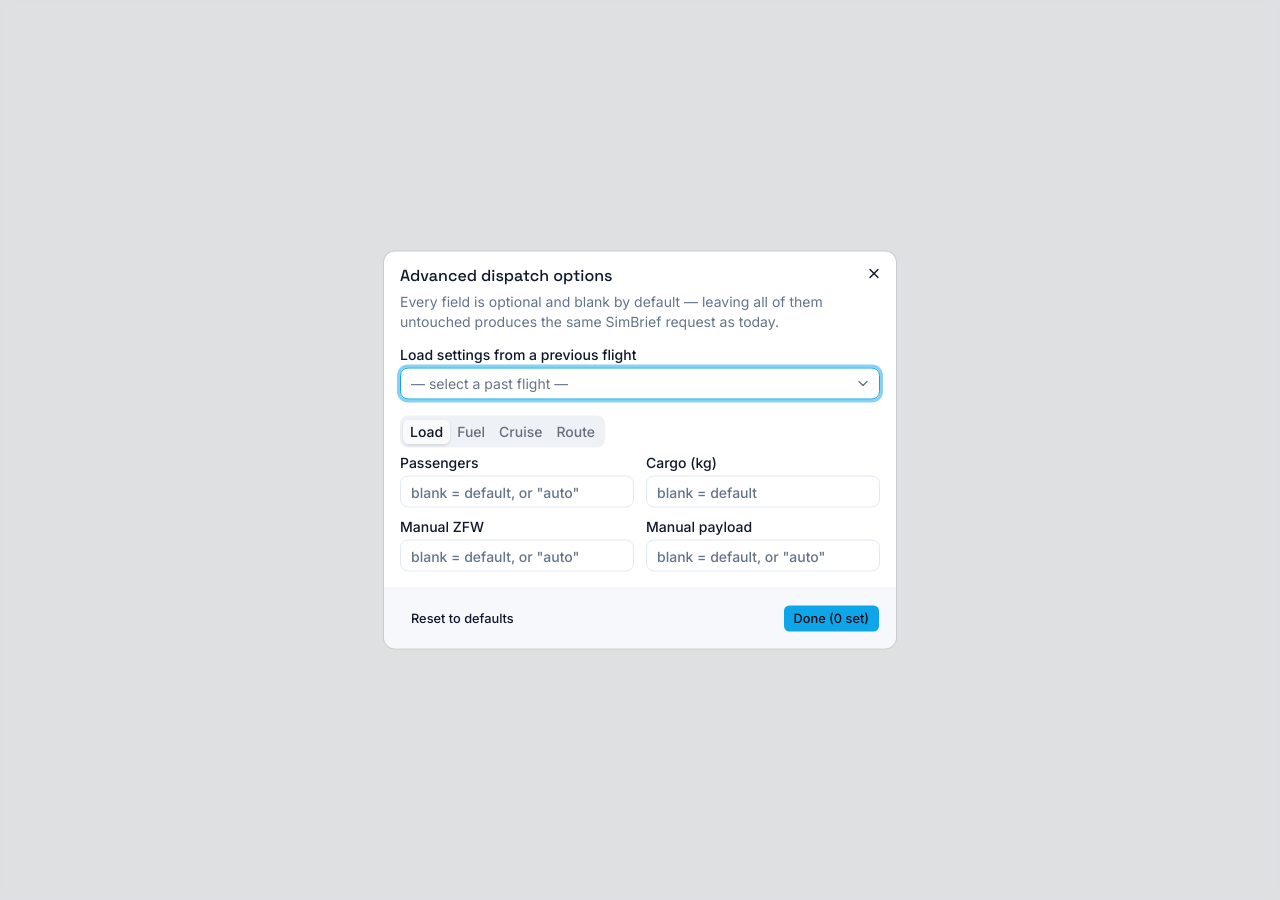
DispatchAdvancedDialog › loads a flight's stored options and shows a confirmation naming it
Click the dropdown at (490, 383), box [400, 368, 880, 400]
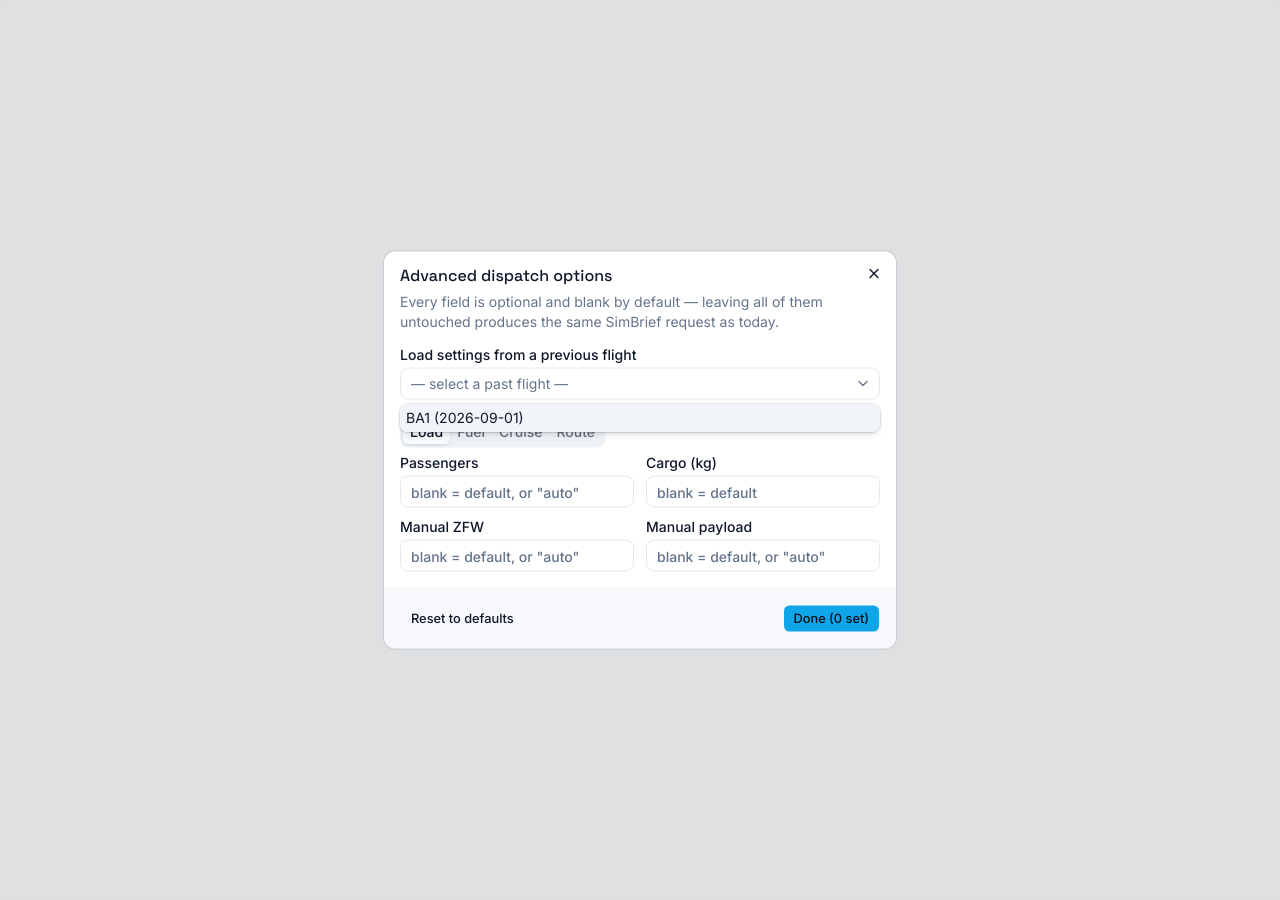
Click the option "BA1 (2026-09-01)" at (477, 418), box [400, 404, 880, 432]
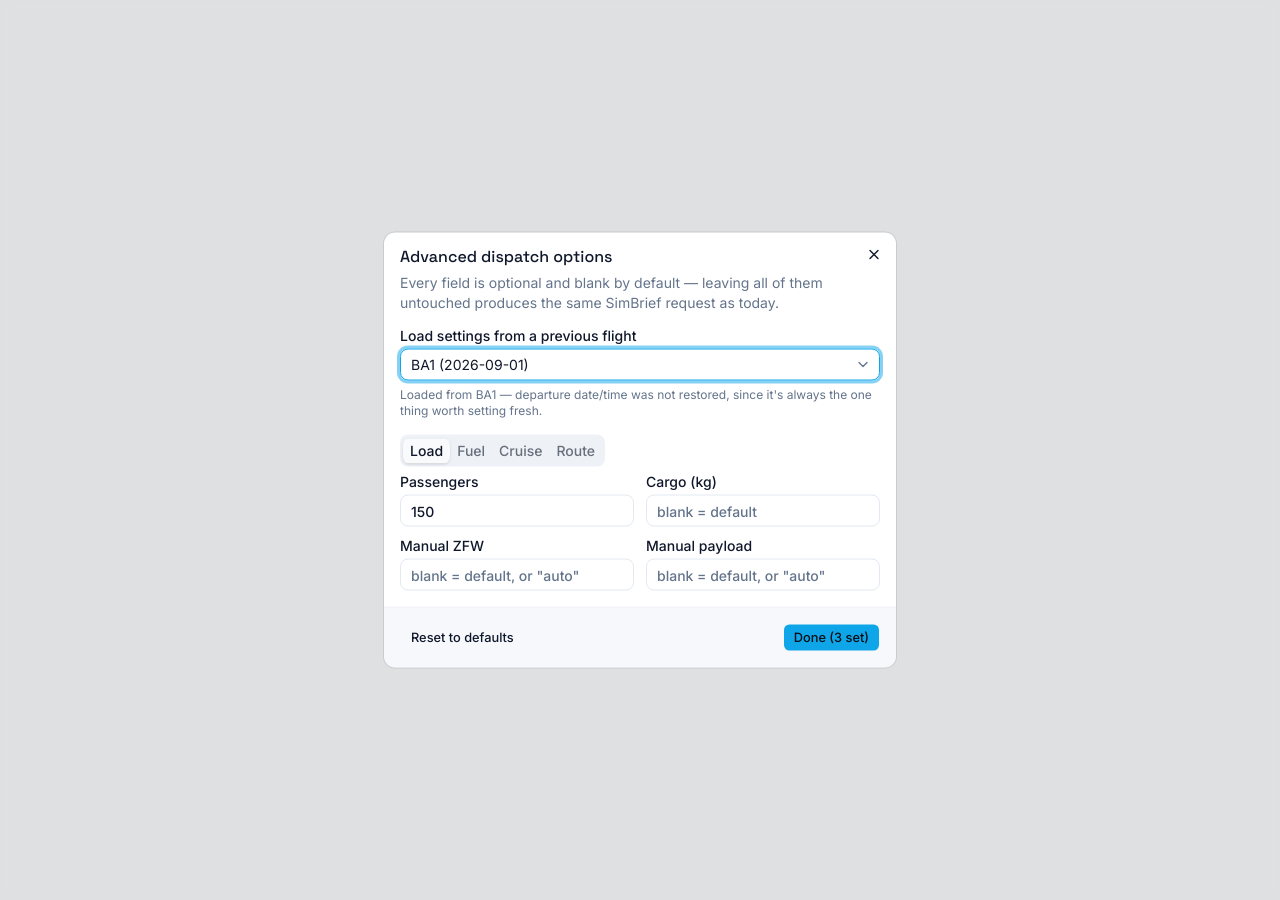
Expected: the text "Loaded from BA1" is shown, [400, 386, 872, 418]
Expected: the field labelled "Passengers" holds "150", [400, 494, 634, 526]
Click the tab "Fuel" at (471, 450), box [450, 438, 492, 463]
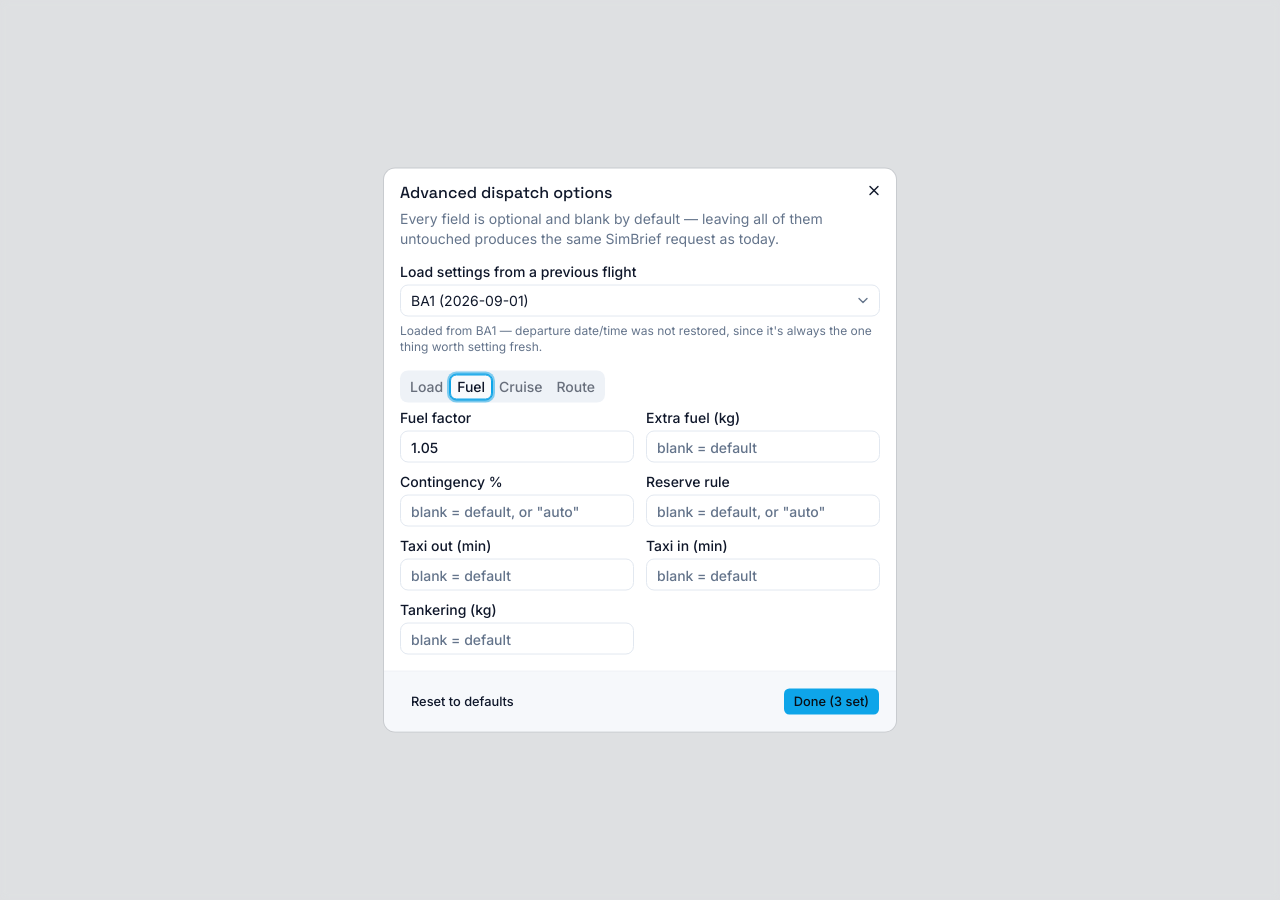
Expected: the field labelled "Fuel factor" holds "1.05", [400, 430, 634, 462]
Click the tab "Cruise" at (521, 386), box [492, 374, 550, 399]
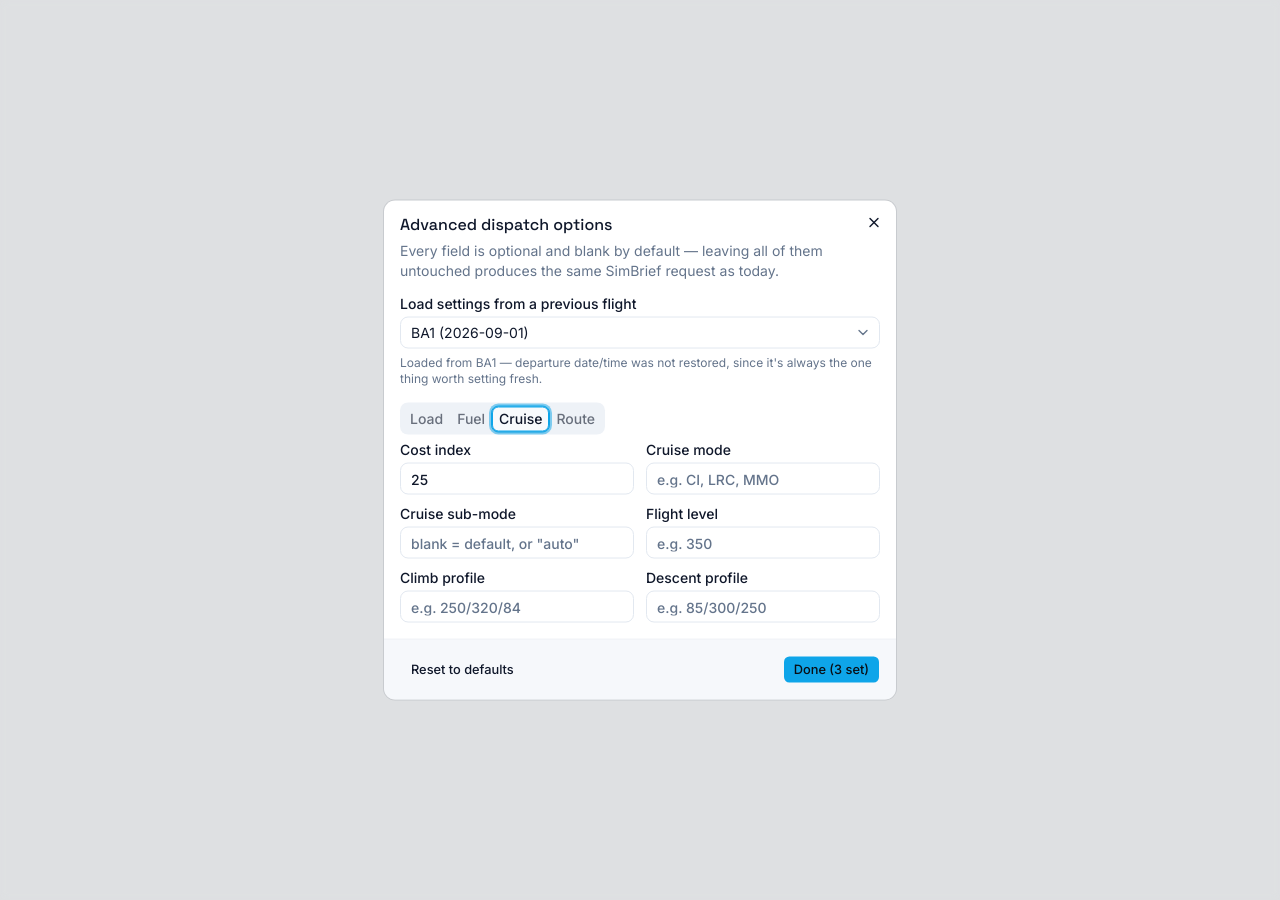
Expected: the field labelled "Cost index" holds "25", [400, 462, 634, 494]
